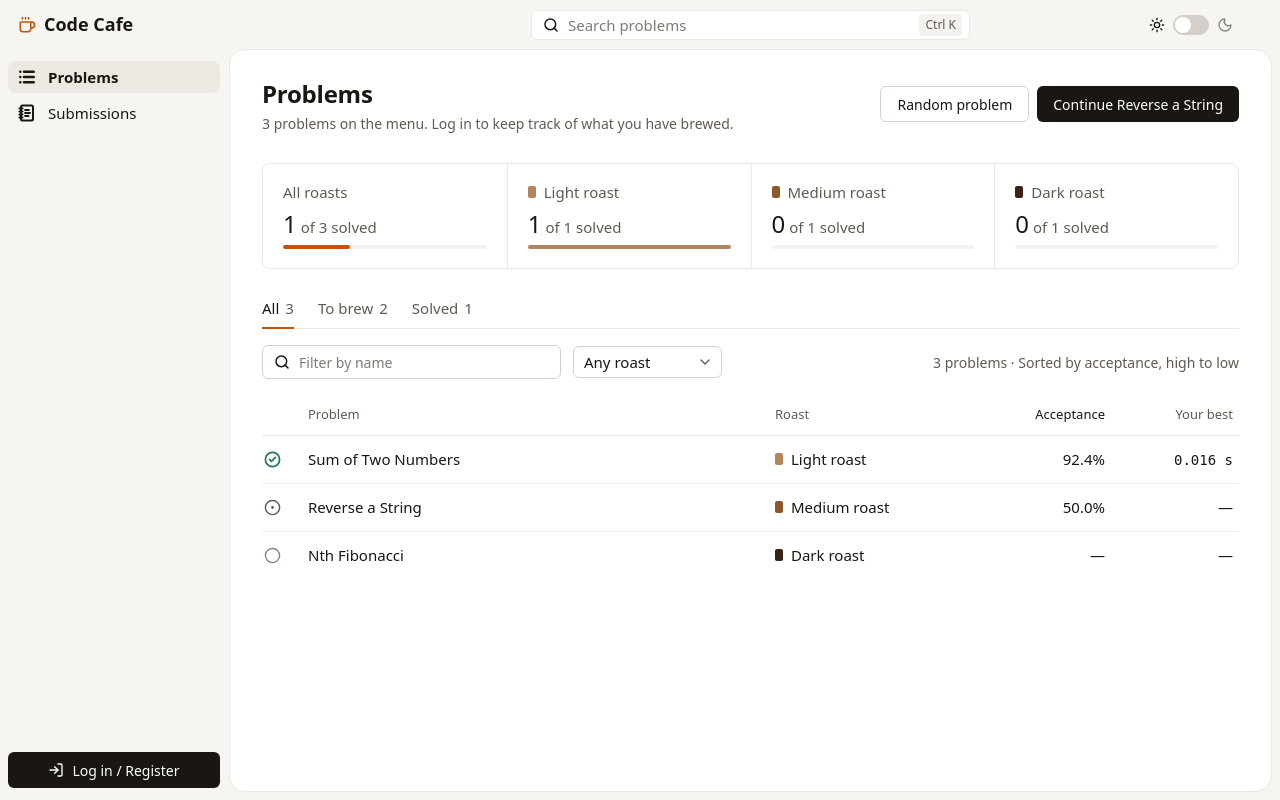
app shell › shows visible text in the search list when nothing matches
This screenshot has width=1280, height=800.
Expected: the link "Nth Fibonacci" is shown, [308,545,404,565]
Type "zzzz" into the dropdown labelled "Search problems".
click(750, 24); type("zzzz")  # box [531,10,970,40]
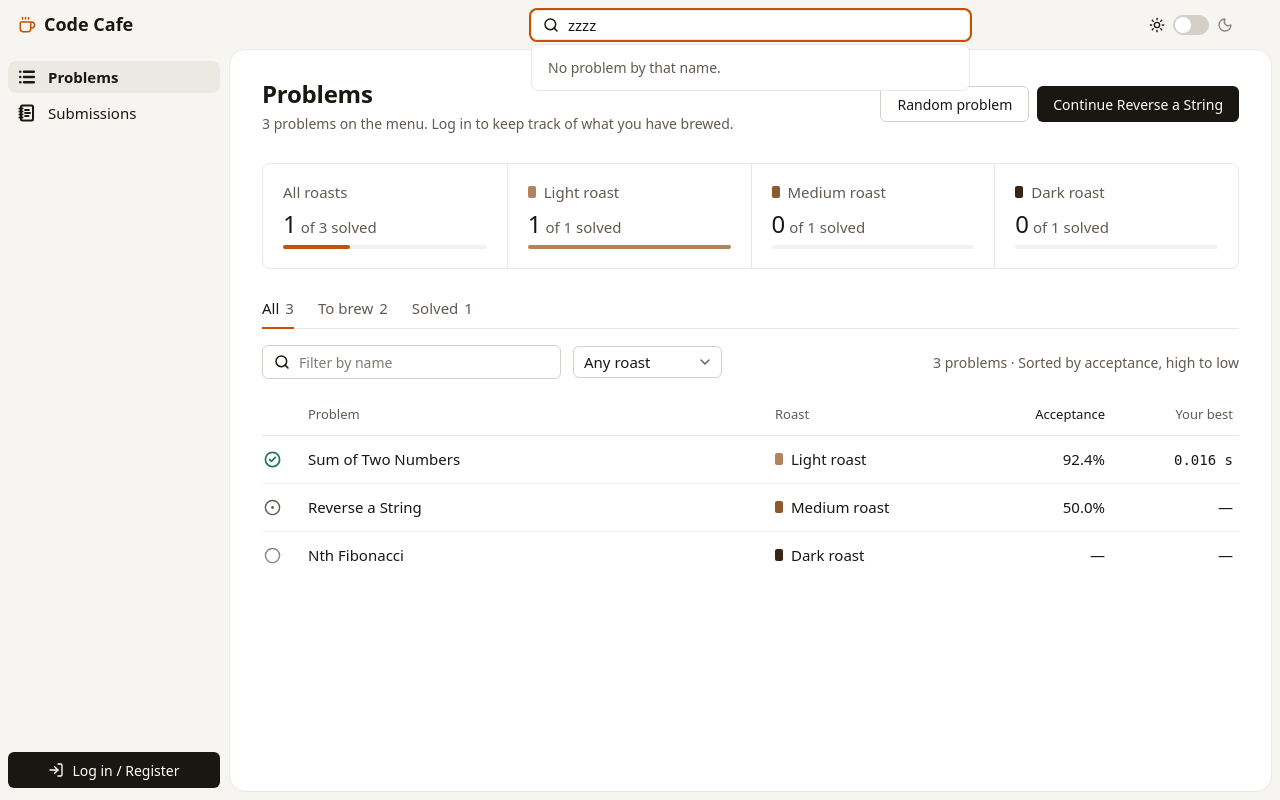
Now the list item "No problem by that name." is shown, box [548,58,721,76]
